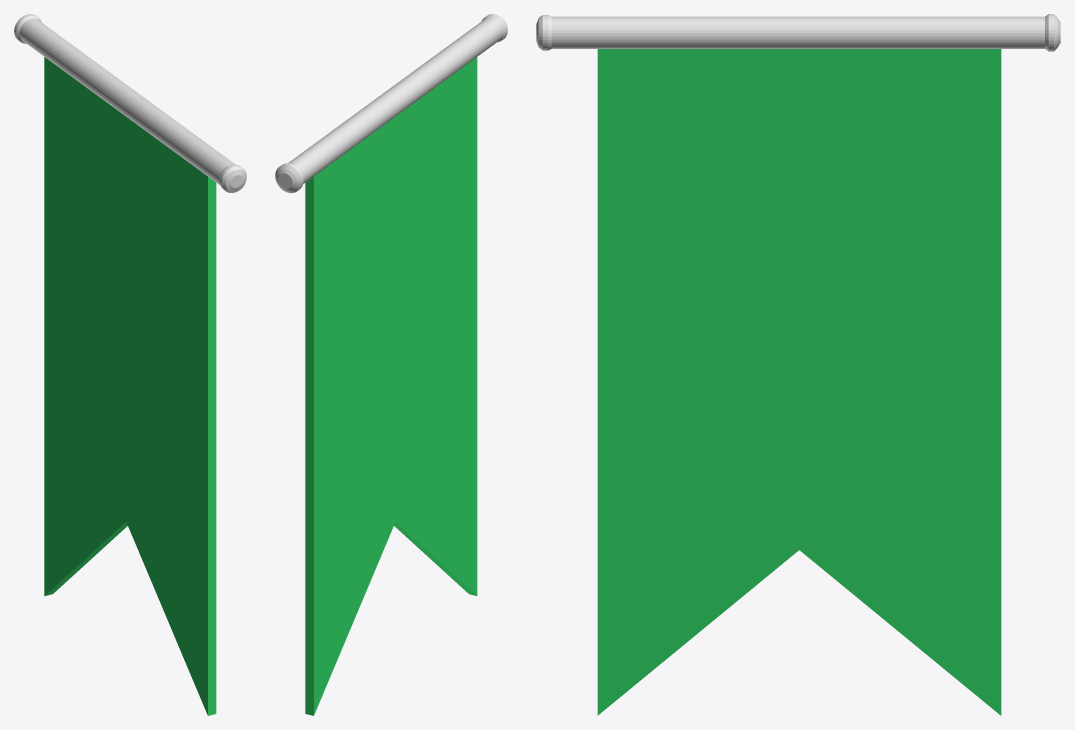
File: Flaga_Wiszaca.fbx
3 views of the same model, side by side, from view 1: azimuth 30°, elevation 25°; view 2: azimuth 150°, elevation 25°; view 3: azimuth 270°, elevation 25° (orthographic). The views are drawn at different scales.
Visible parts, largest first — view 1: Cylinder; view 2: Cylinder; view 3: Cylinder.
Boxes of the visible parts, left/top/right/bottom form: Cylinder: left=14, top=14, right=246, bottom=715; Cylinder: left=275, top=14, right=507, bottom=715; Cylinder: left=536, top=14, right=1060, bottom=715.
Bounding box in the file's own units: 29.68 × 607 × 414.
